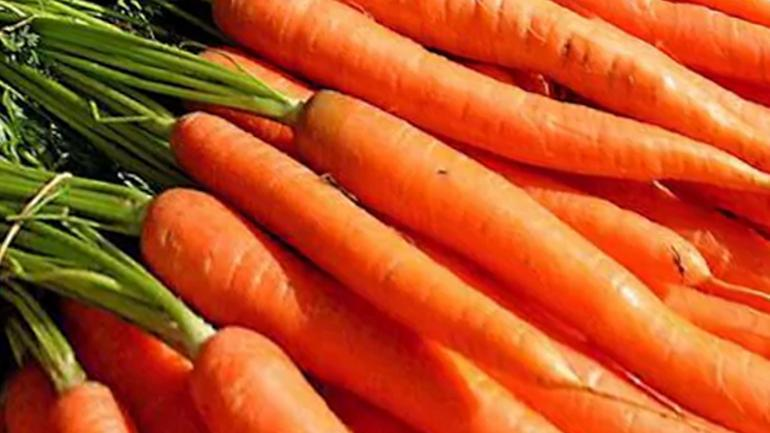carrot: (68, 0, 770, 433), (190, 3, 770, 300), (142, 168, 770, 433), (154, 305, 347, 433), (22, 328, 159, 433)
